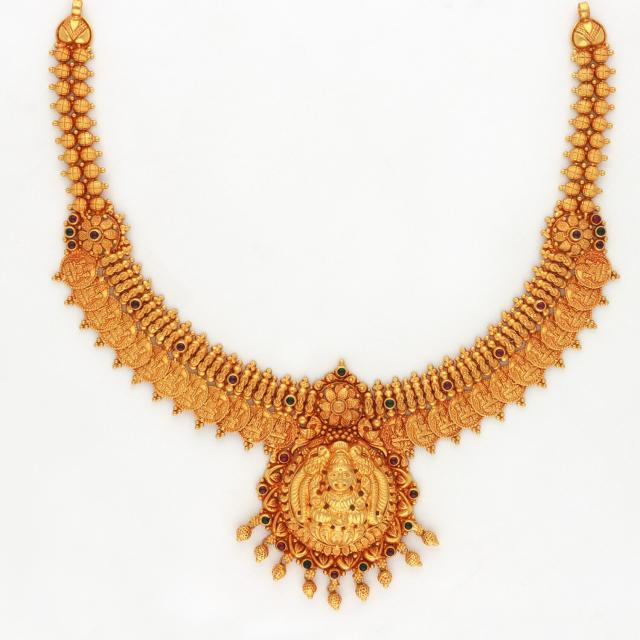missing gem: (335, 403, 343, 412)
